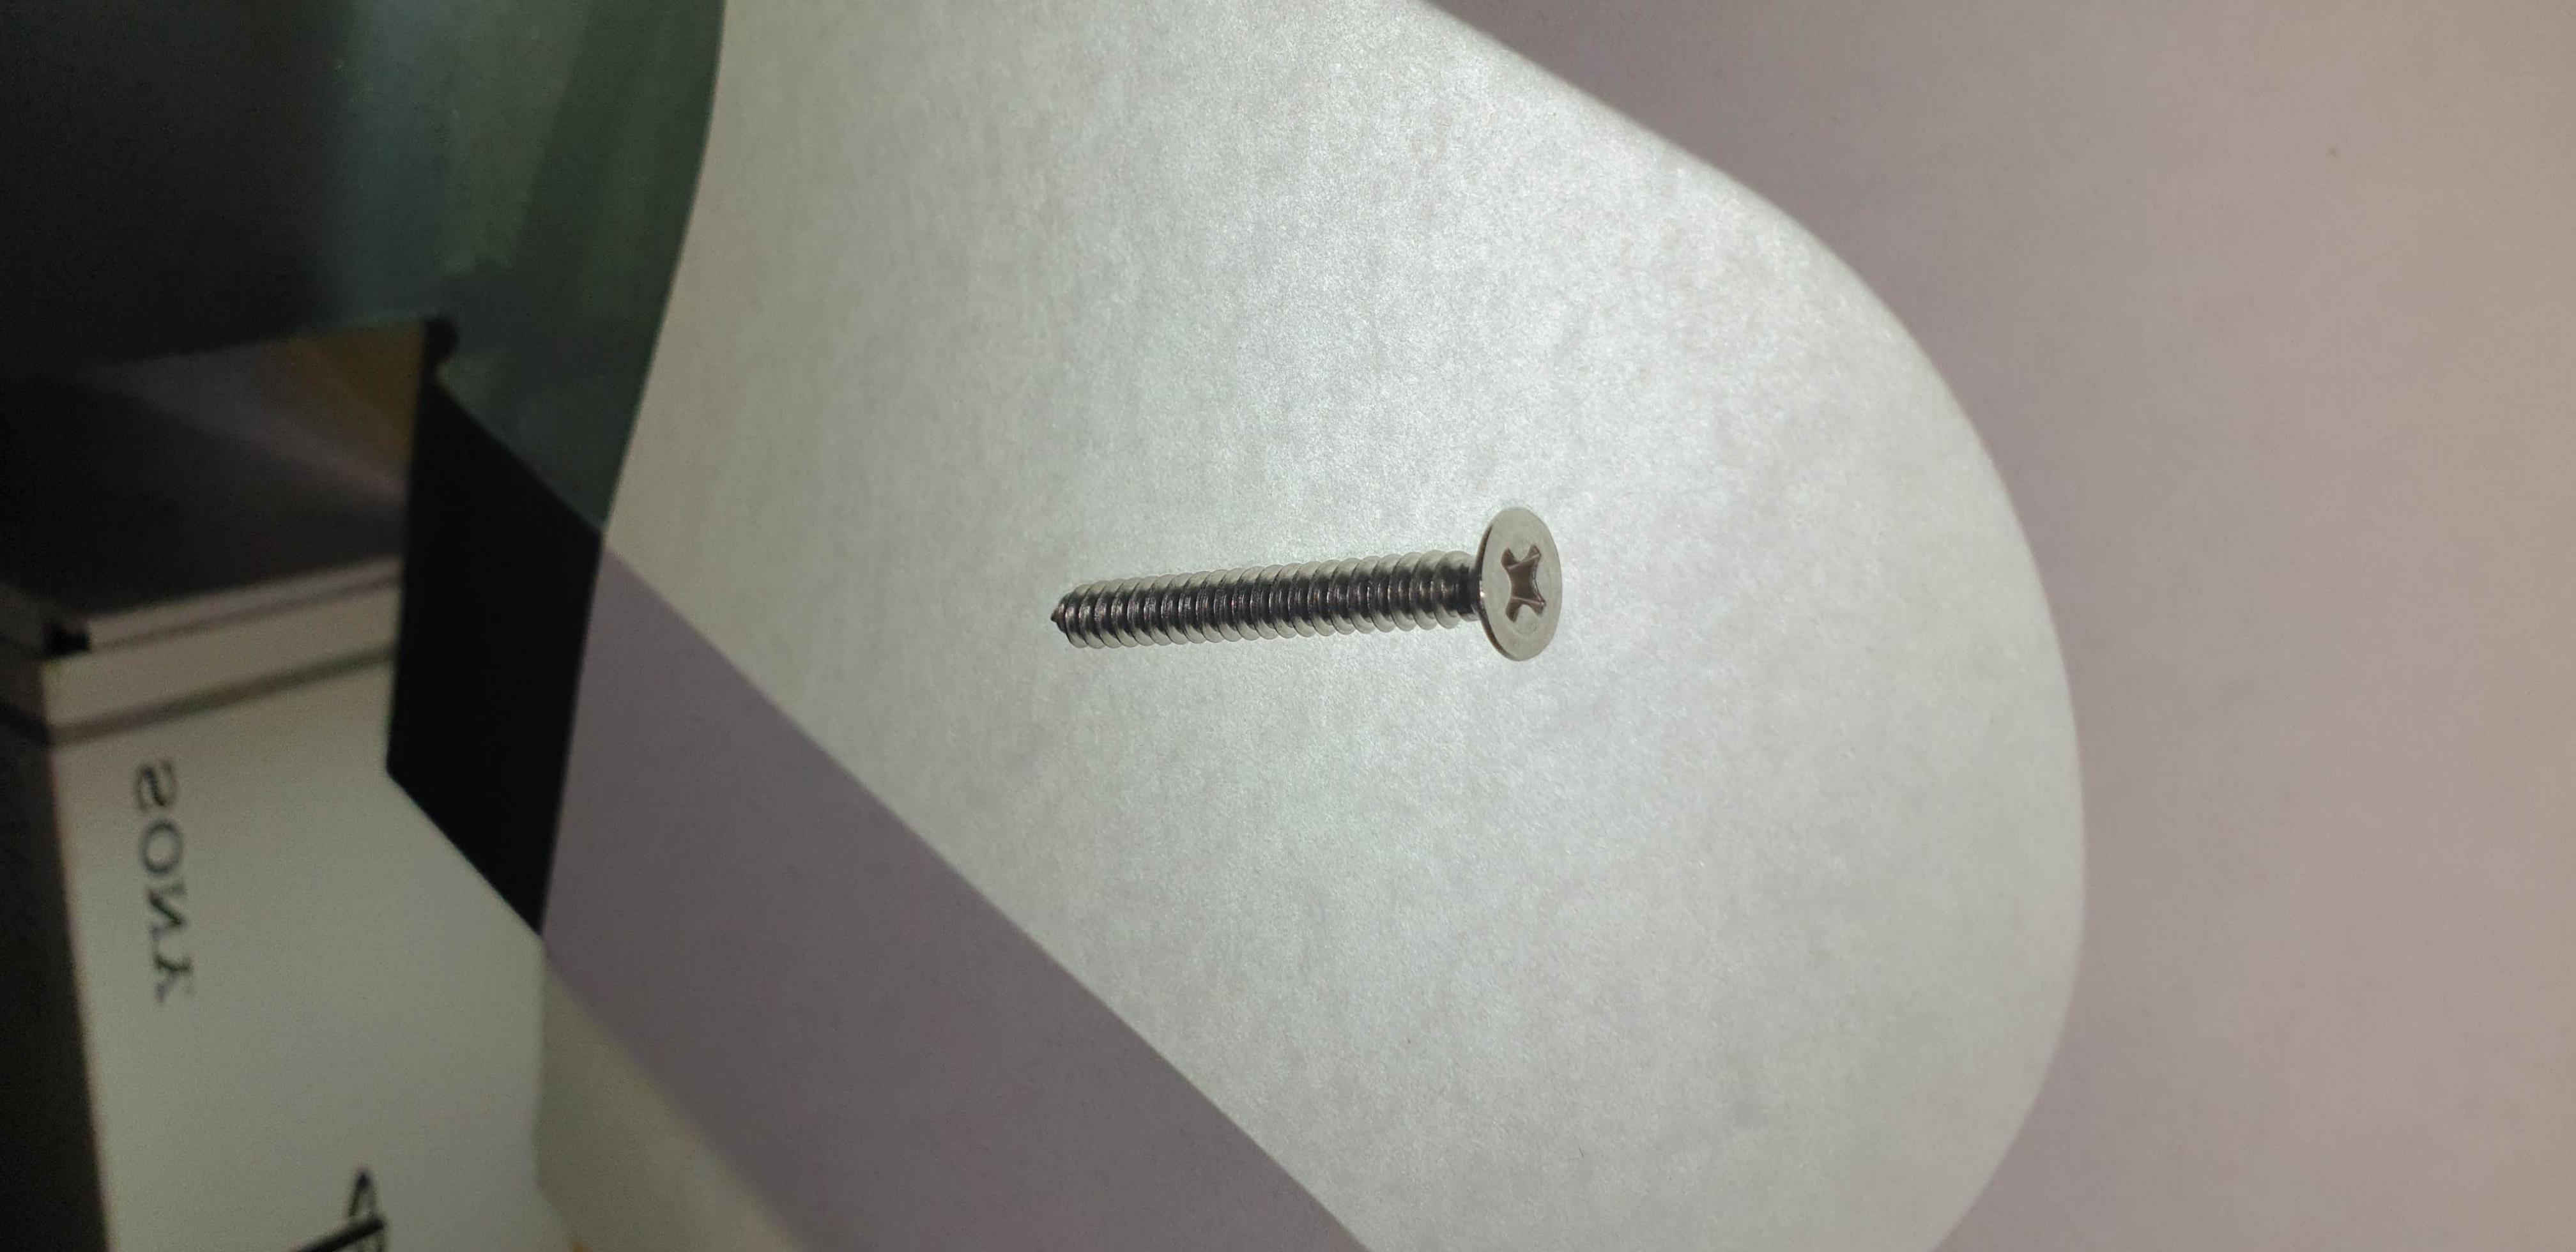fastener: (974, 472, 1686, 708)
